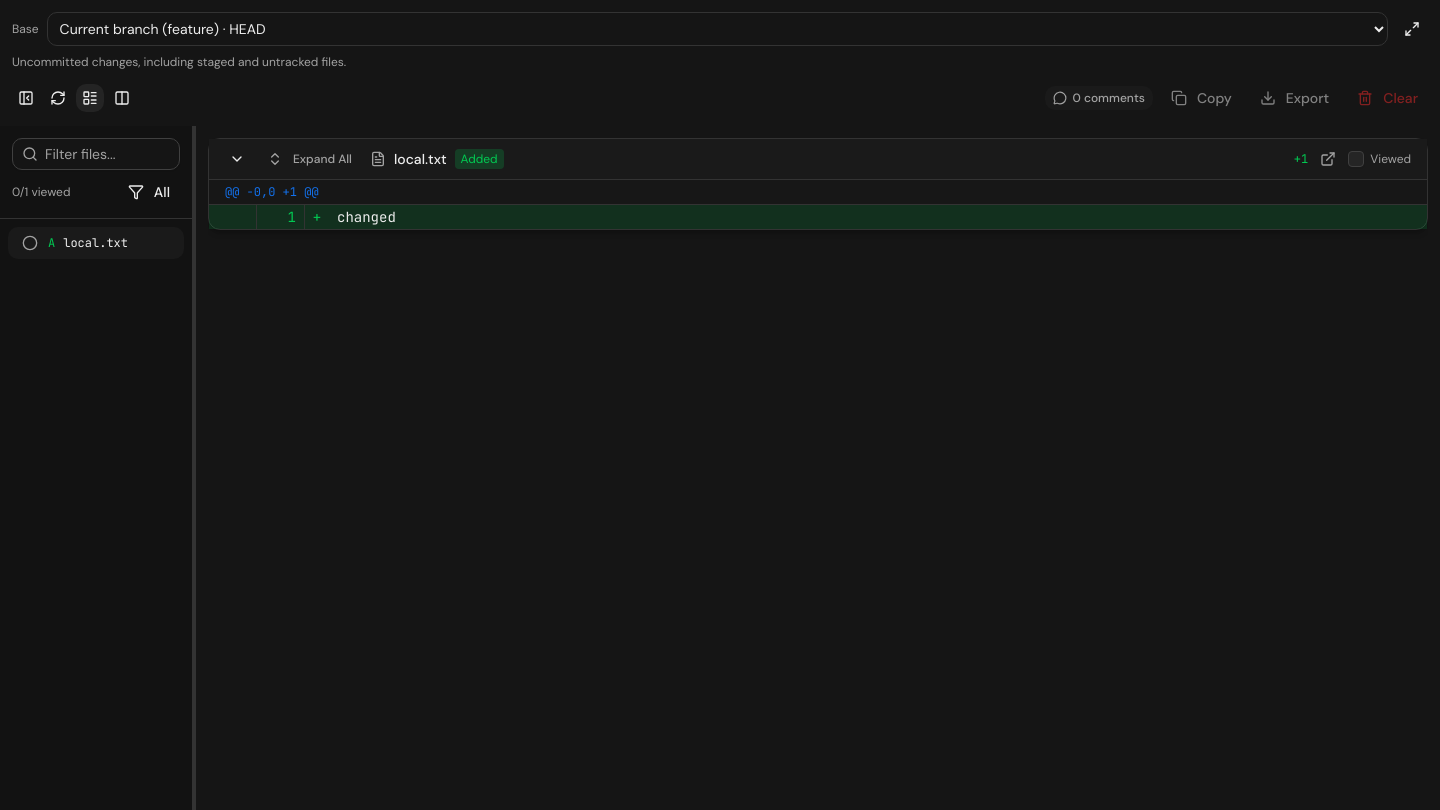
Test case: ReviewPanel › can reopen the only file after marking it viewed
This screenshot has width=1440, height=810.
Expected: the text "local.txt" next to "Added" is shown, x1=394 y1=150 x2=447 y2=168
Click the checkbox with test id "mark-viewed-checkbox": coordinates (1356, 159) x1=1348 y1=151 x2=1364 y2=167
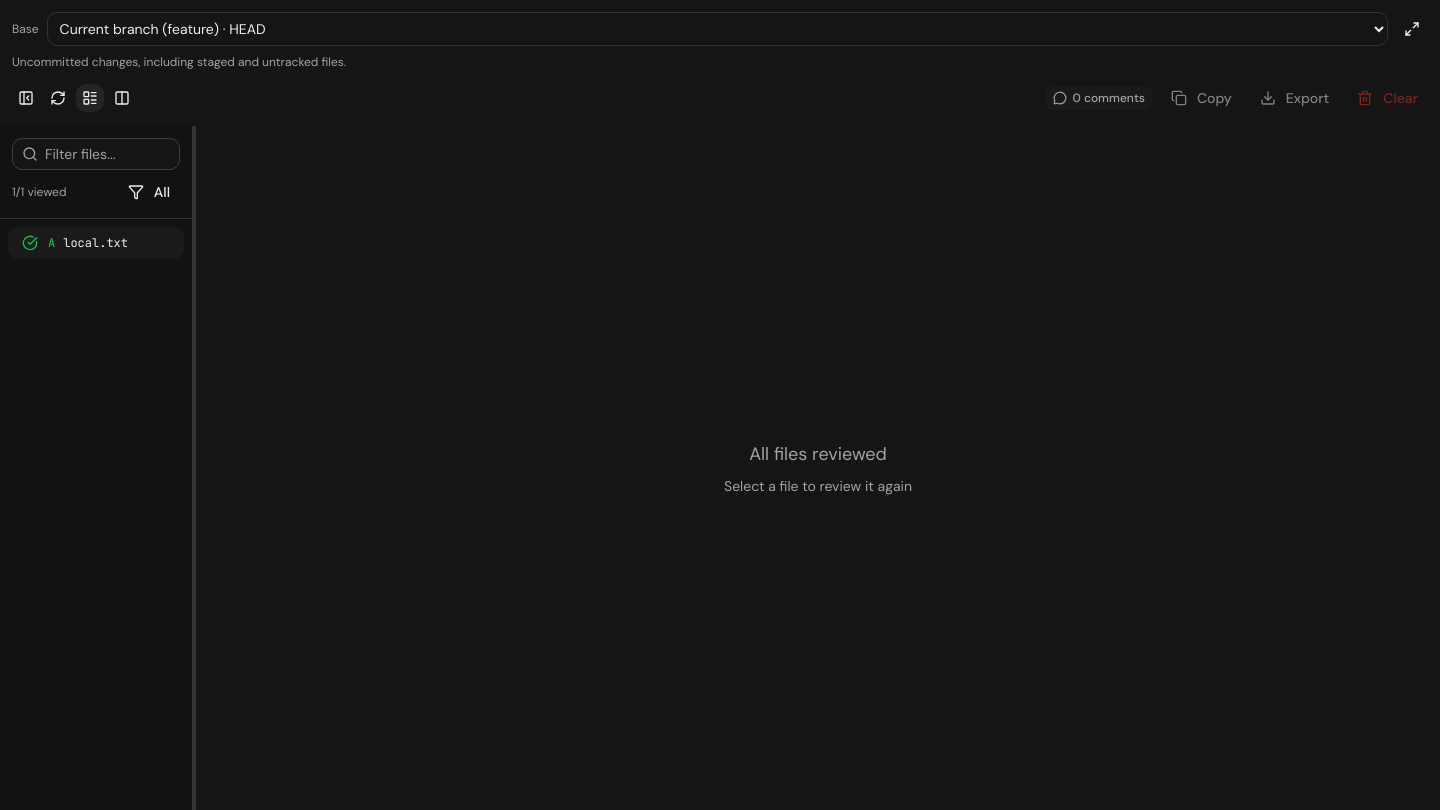
Expected: the text "All files reviewed" is shown, x1=749 y1=442 x2=887 y2=466
Click the button "A local.txt": coordinates (96, 243) x1=8 y1=227 x2=184 y2=259
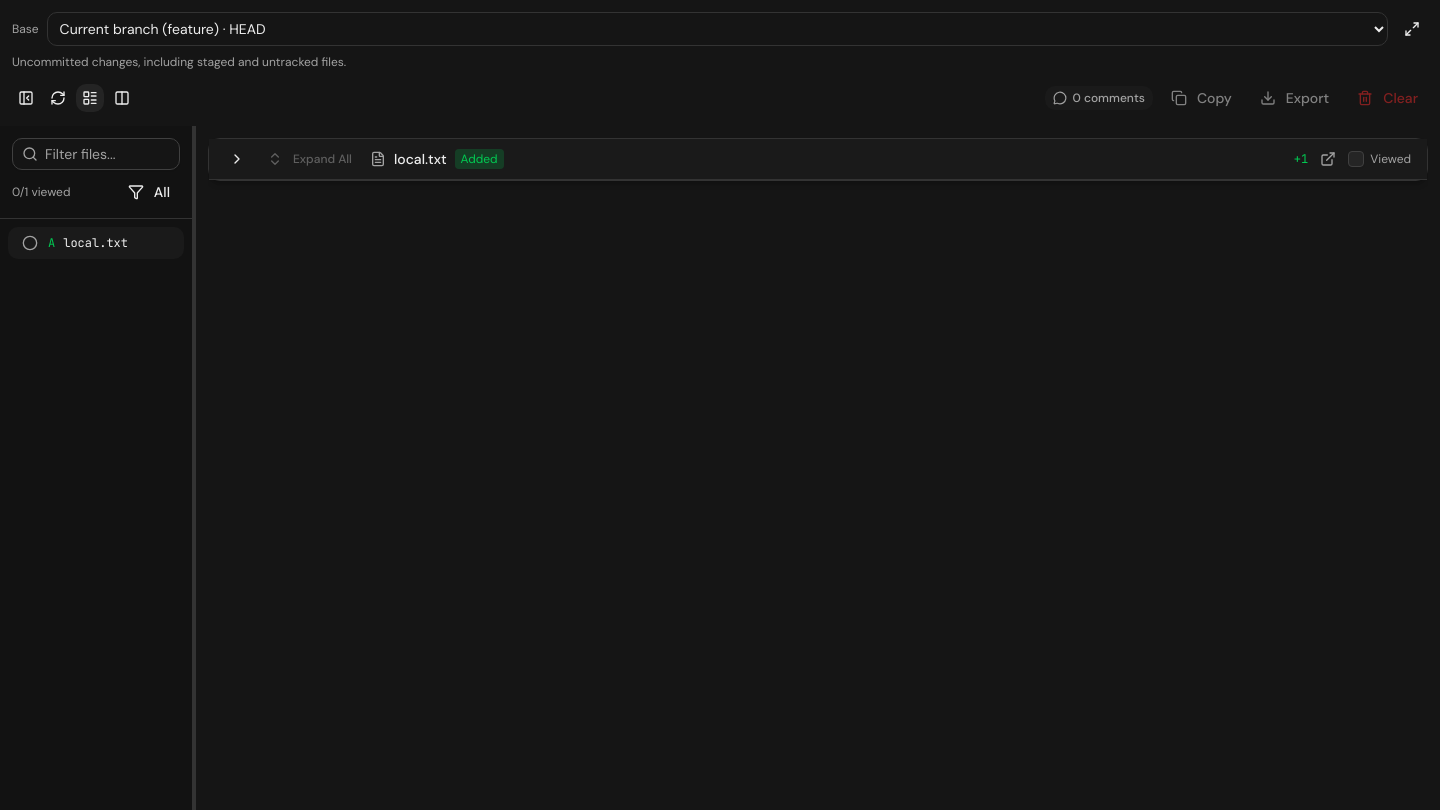
Expected: the text "local.txt" next to "Added" is shown, x1=394 y1=150 x2=447 y2=168
